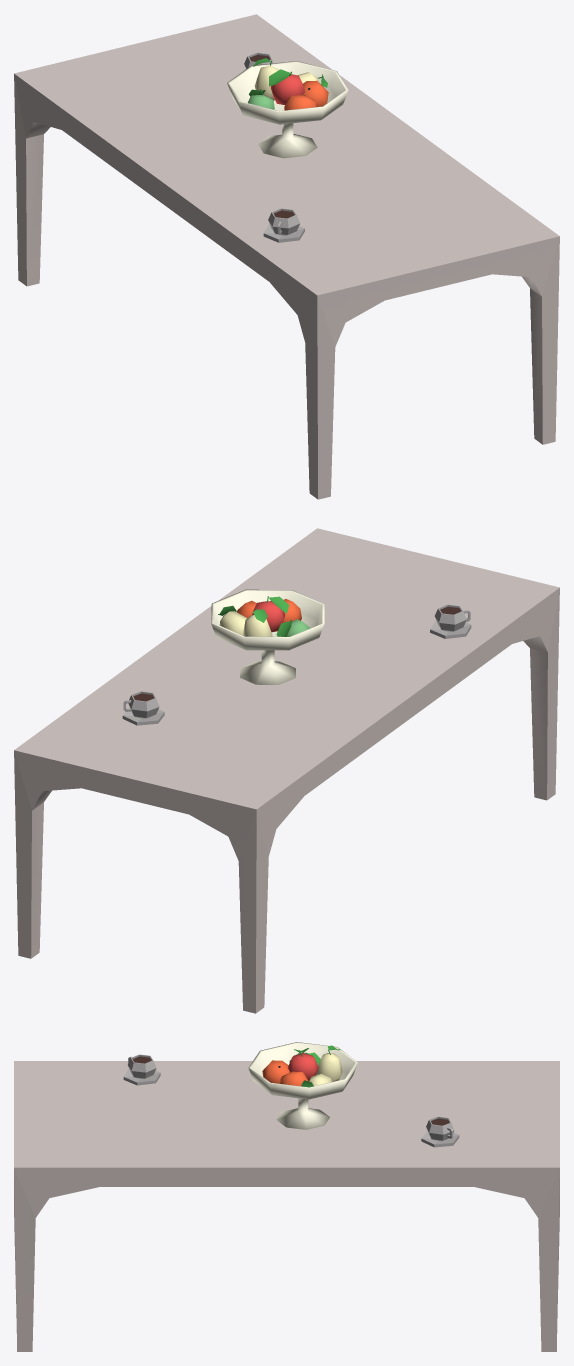
The model's file is table.glb.
The picture shows the model from 3 angles, top to bottom: view 1: azimuth 30°, elevation 25°; view 2: azimuth 150°, elevation 25°; view 3: azimuth 270°, elevation 25°; orthographic projection. The views are drawn at different scales.
Visible parts, largest first — view 1: table; view 2: table; view 3: table.
Boxes of the visible parts, x1=… form: table: x1=14, y1=14, x2=559, y2=499; table: x1=14, y1=528, x2=559, y2=1013; table: x1=14, y1=1042, x2=559, y2=1351.
Bounding box in the file's own units: 0.895 × 0.9943 × 1.94.
Materials: 1 (1 with a texture image).
